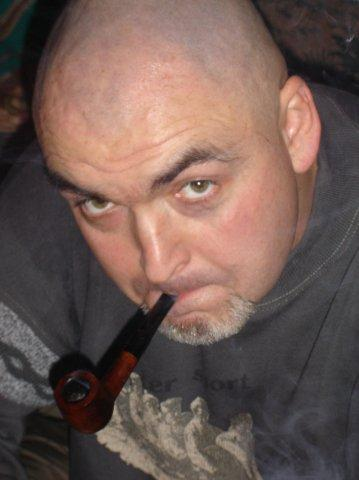trubka: (54, 294, 179, 435)
